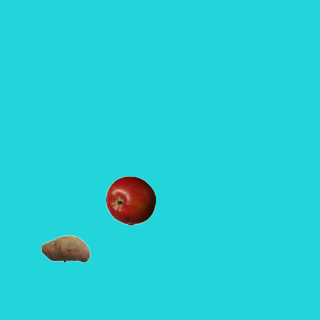Apple Braeburn: (105, 175, 155, 225)
Potato Sweet: (40, 223, 90, 273)
